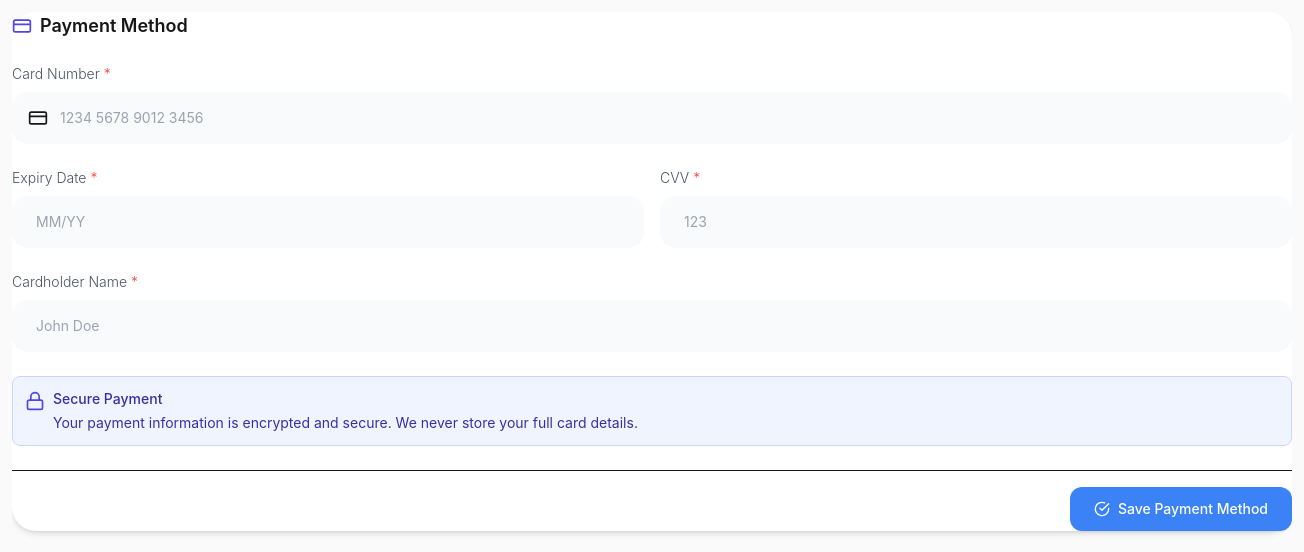
PaymentMethodForm Component › Input Formatting › limits CVV to 4 digits
Type "12345" into the password field labelled "CVV*" at (976, 222), box x1=660 y1=196 x2=1292 y2=248
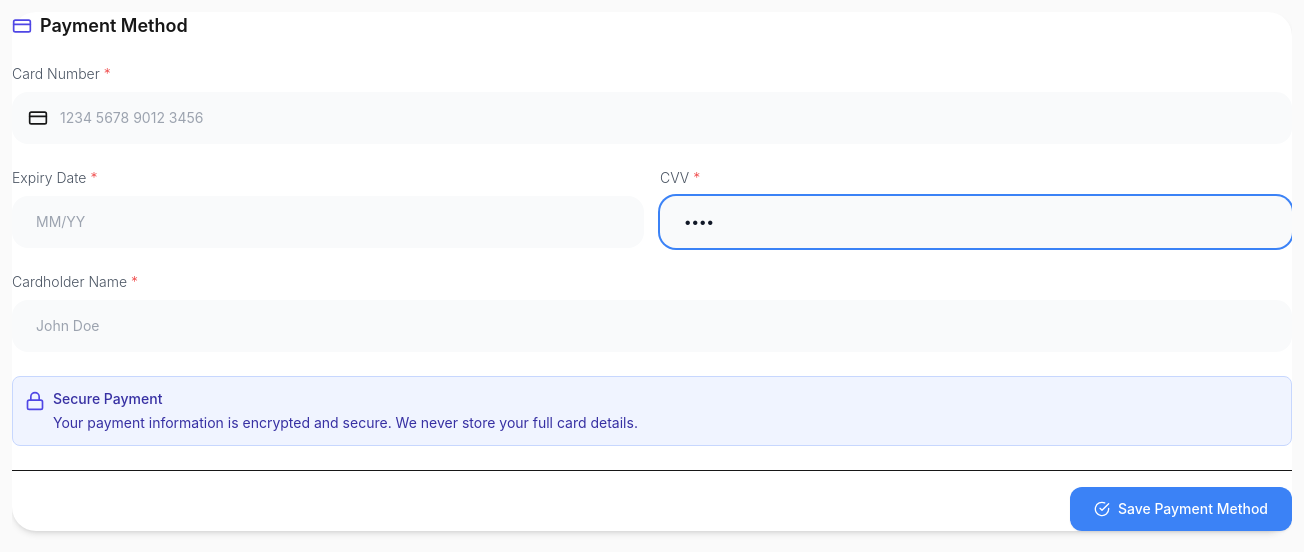
Now the password field labelled "CVV*" holds "1234", box x1=660 y1=196 x2=1292 y2=248
